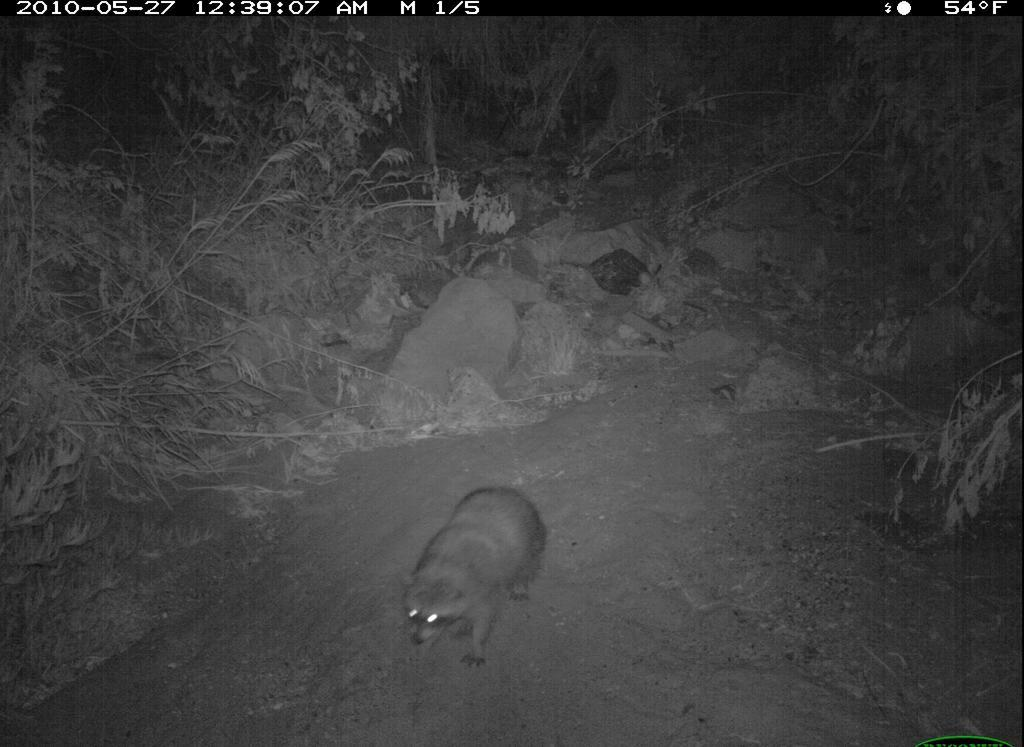raccoon: (395, 478, 556, 680)
